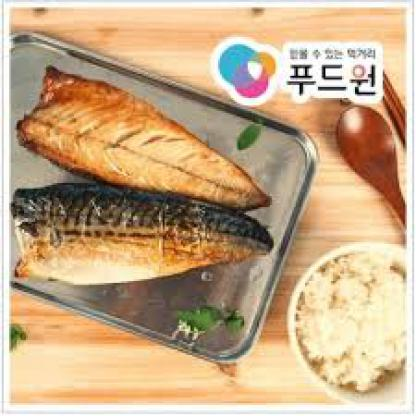grilled mackerel: (22, 74, 264, 194), (7, 183, 272, 281)
rice ball: (292, 244, 414, 399)
